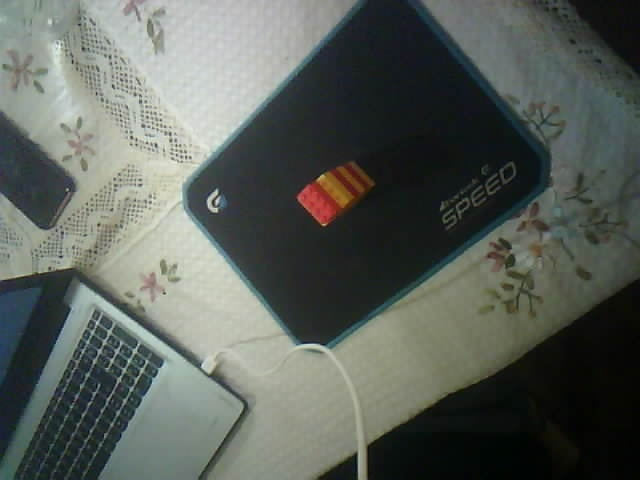lego: (295, 160, 376, 228)
